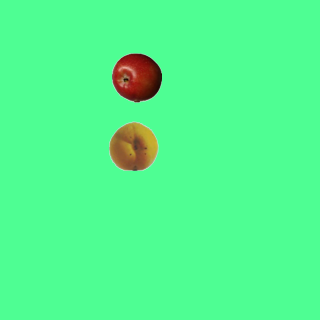Apple Braeburn: (111, 52, 161, 102)
Peach 2: (108, 120, 158, 170)
